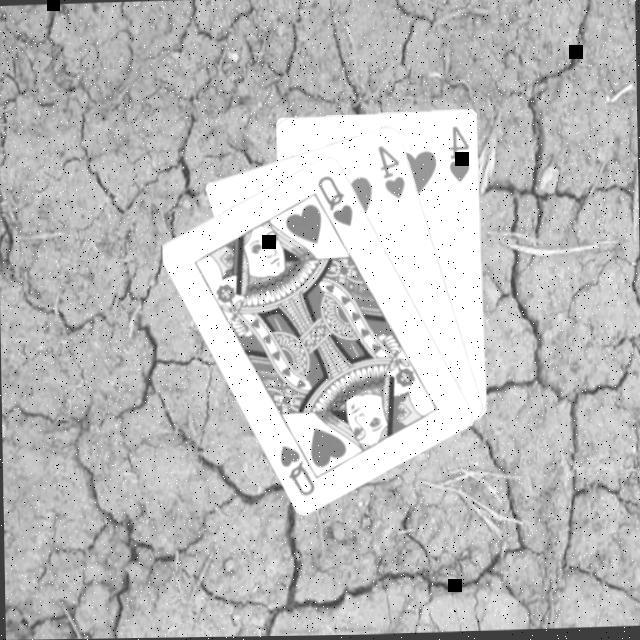4H: (376, 140, 410, 202), (448, 122, 474, 184)
QH: (277, 426, 324, 499), (316, 170, 358, 229)
